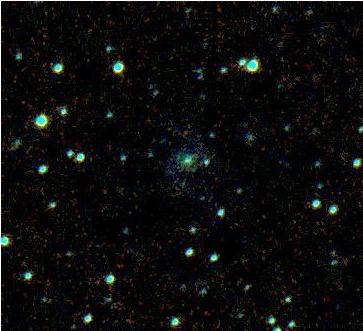star: (106, 247, 136, 277)
